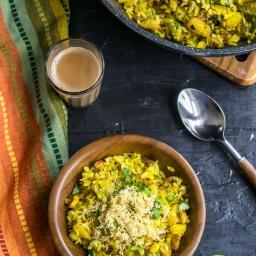Poha: (67, 149, 189, 256)
